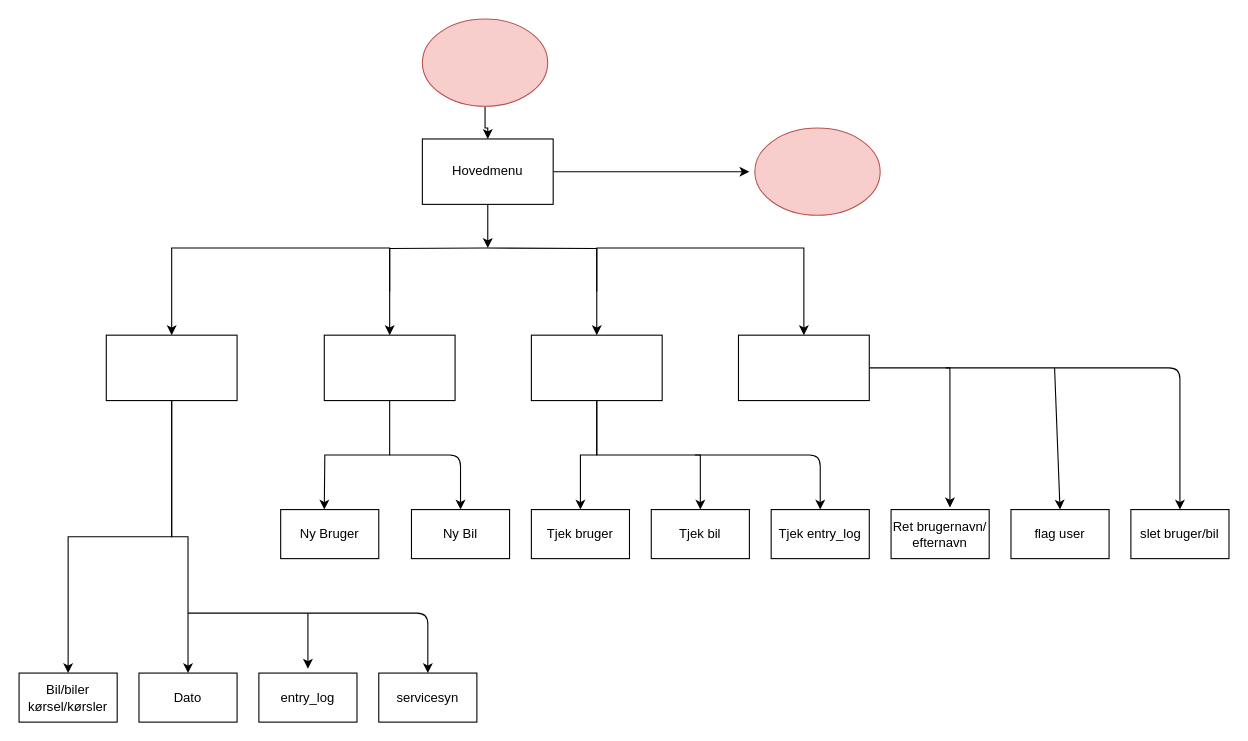
This 1248x741 diagram has some shape labels left out. Each missing label, with the box of its shape:
End: (754, 127, 880, 215)
KM_input: (105, 334, 237, 401)
Opret: (323, 334, 455, 401)
Rette: (737, 334, 869, 401)
Start: (421, 18, 548, 106)
Udtræk: (530, 334, 662, 401)
